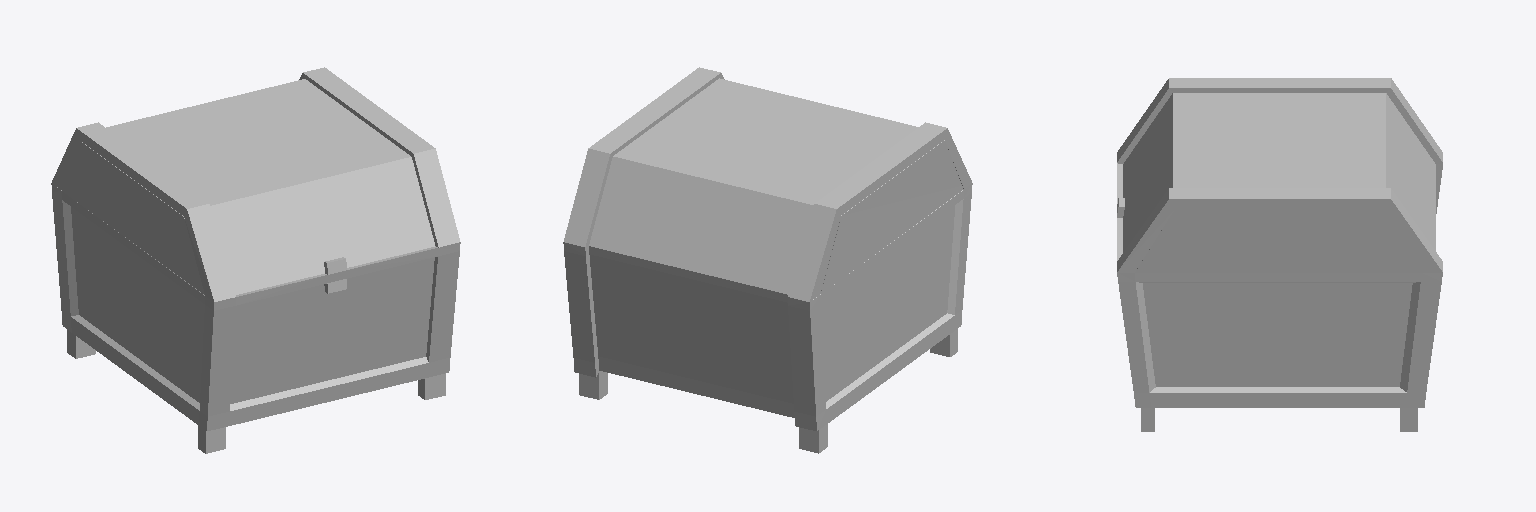
Rendered from treasure_chest.obj.
3 views of the same model, side by side, from view 1: azimuth 30°, elevation 25°; view 2: azimuth 150°, elevation 25°; view 3: azimuth 270°, elevation 25° (orthographic).
Bounding box in the file's own units: 2.08 × 1.88 × 2.36.